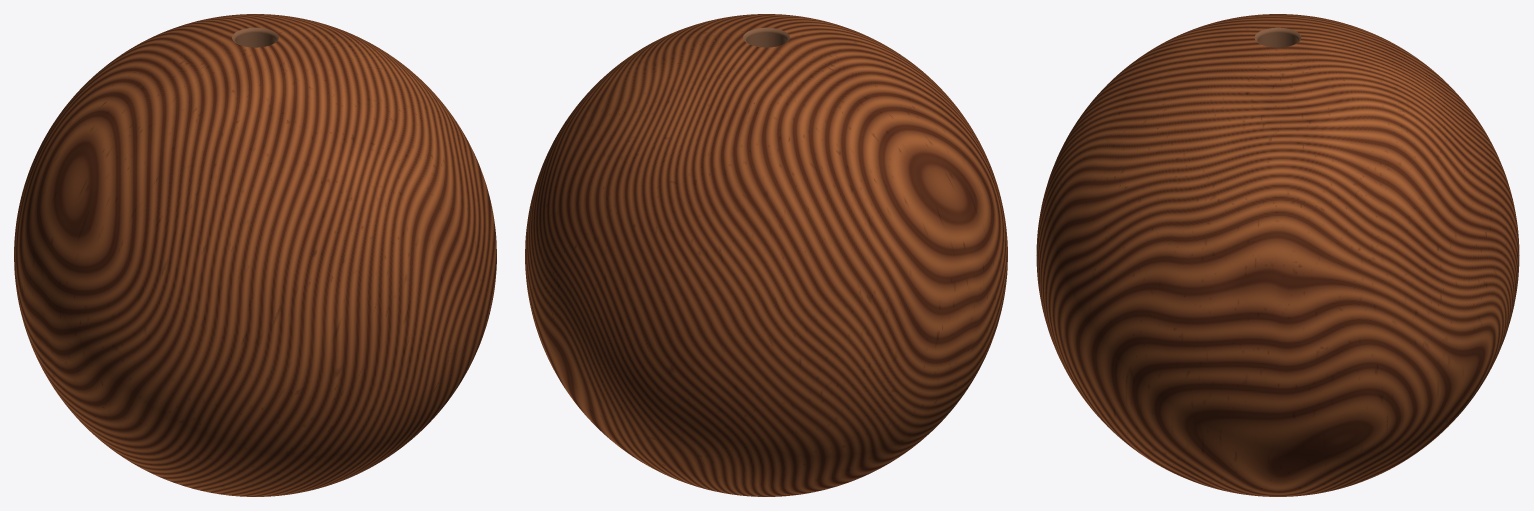
File: wood-ketan-12mm.glb
3 views of the same model, side by side, from view 1: azimuth 30°, elevation 25°; view 2: azimuth 150°, elevation 25°; view 3: azimuth 270°, elevation 25° (orthographic).
Parts seen in each view (by area): view 1: ketan; view 2: ketan; view 3: ketan.
Boxes of the visible parts, x1=… form: ketan: x1=14, y1=14, x2=496, y2=496; ketan: x1=525, y1=14, x2=1007, y2=496; ketan: x1=1036, y1=14, x2=1519, y2=496.
Bounding box in the file's own units: 0.012 × 0.0119 × 0.012.
2 materials, 1 textured.
